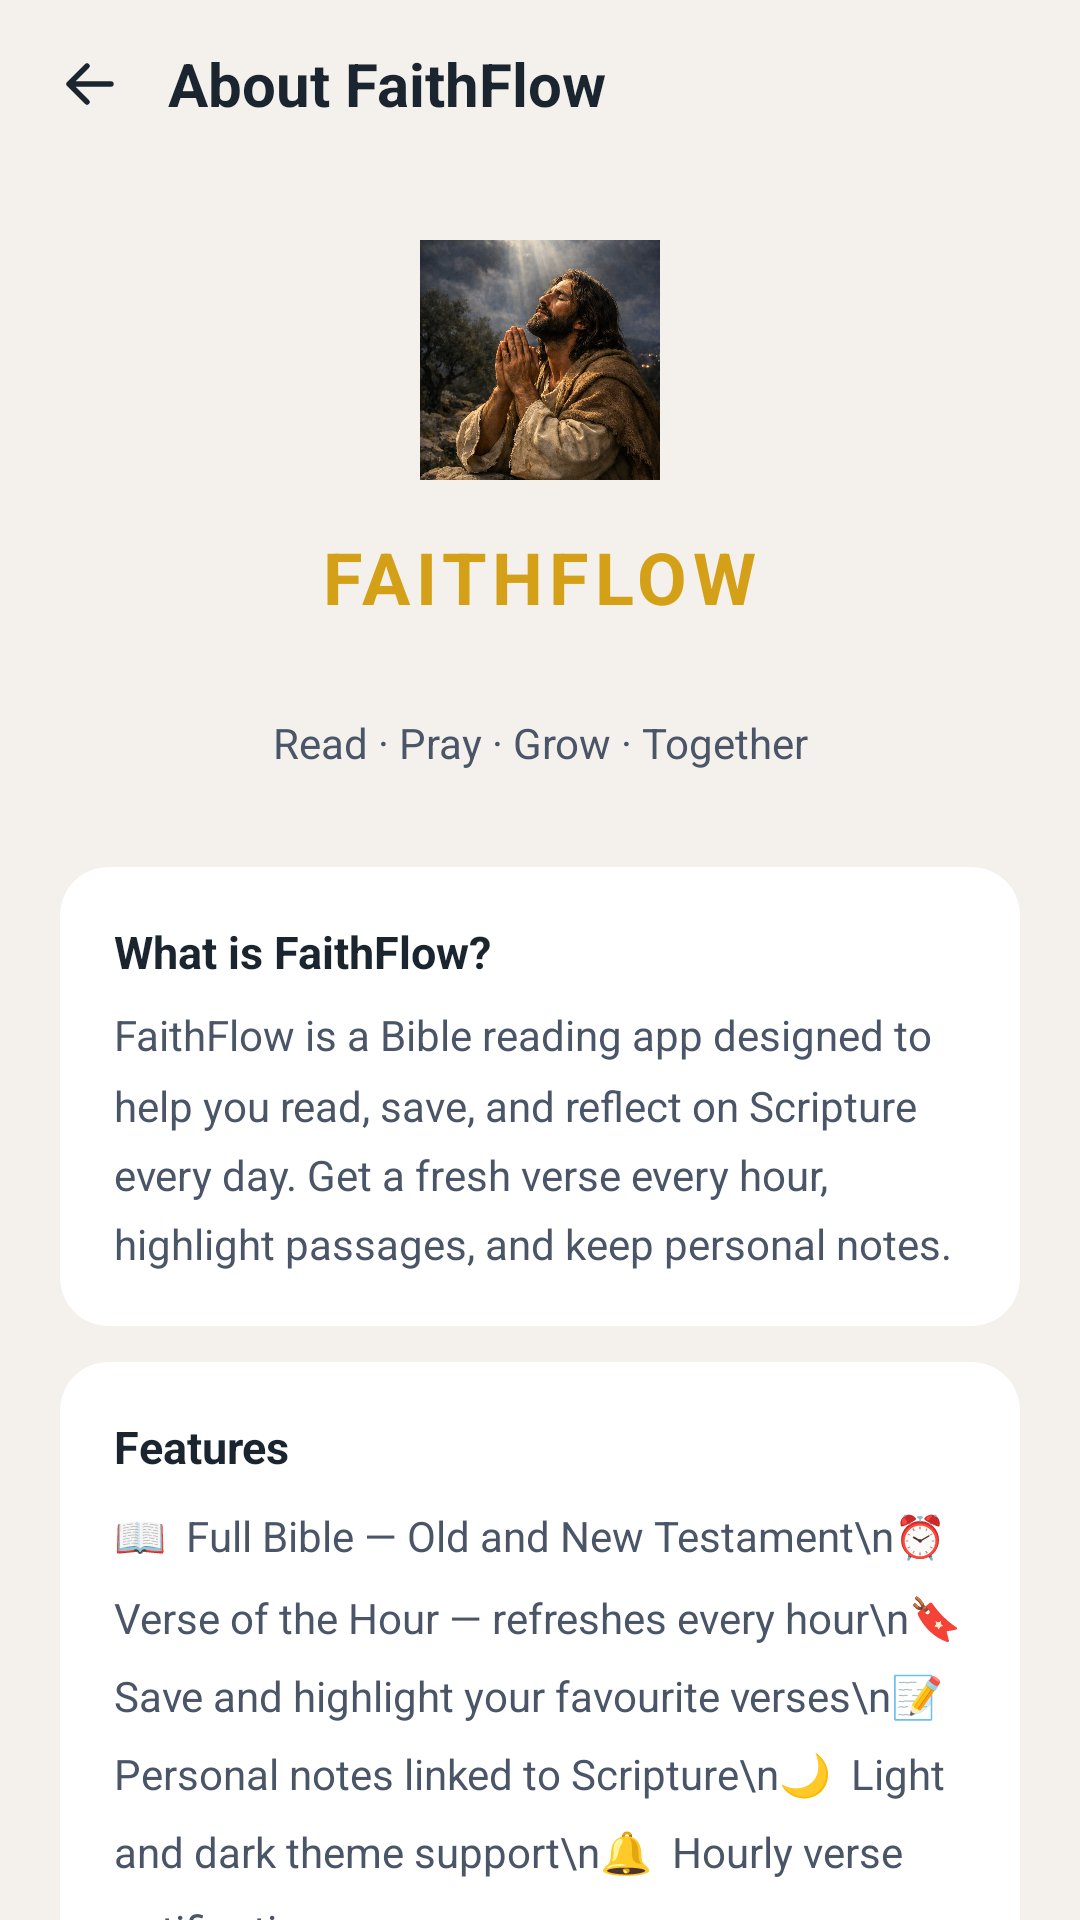

Point at icon controls on the screen. Image size 1080×1920, points as [x,y].
Back: [90,84]
